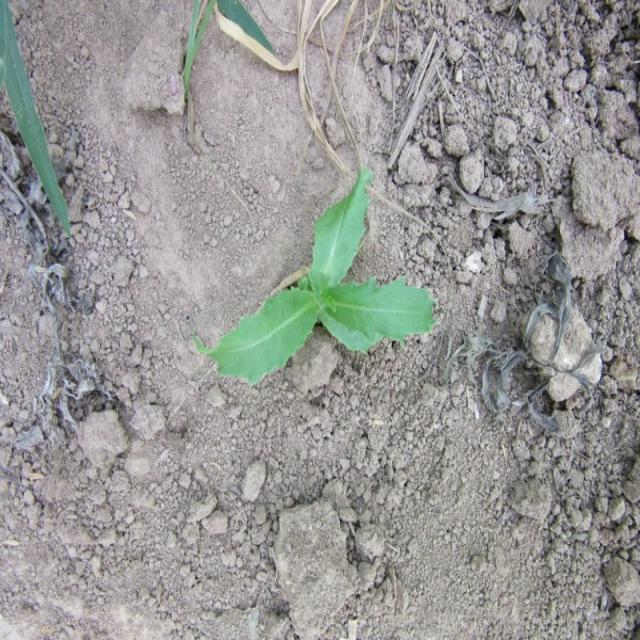cs: (208, 166, 442, 397)
